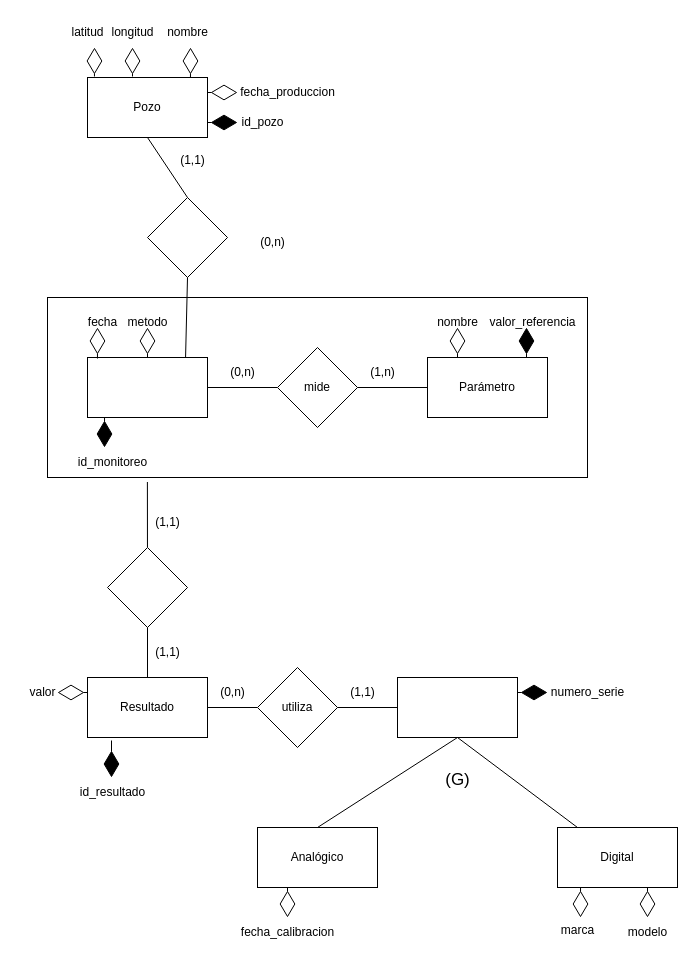
Image size: 695x964. Some labels were removed from this diagram. Here are the shapes that lost their labels. From the top down, the centre of each, then its label:
At pixel 187 237: "realiza".
At pixel 147 387: "Monitoreo".
At pixel 147 587: "obtiene".
At pixel 457 707: "Instrumento".
